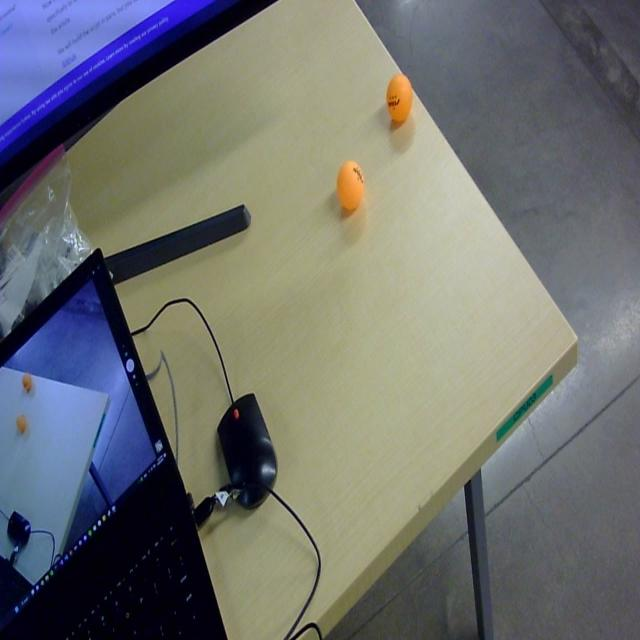ball: (336, 158, 366, 214), (386, 71, 412, 127), (15, 410, 28, 436), (22, 374, 32, 396)
